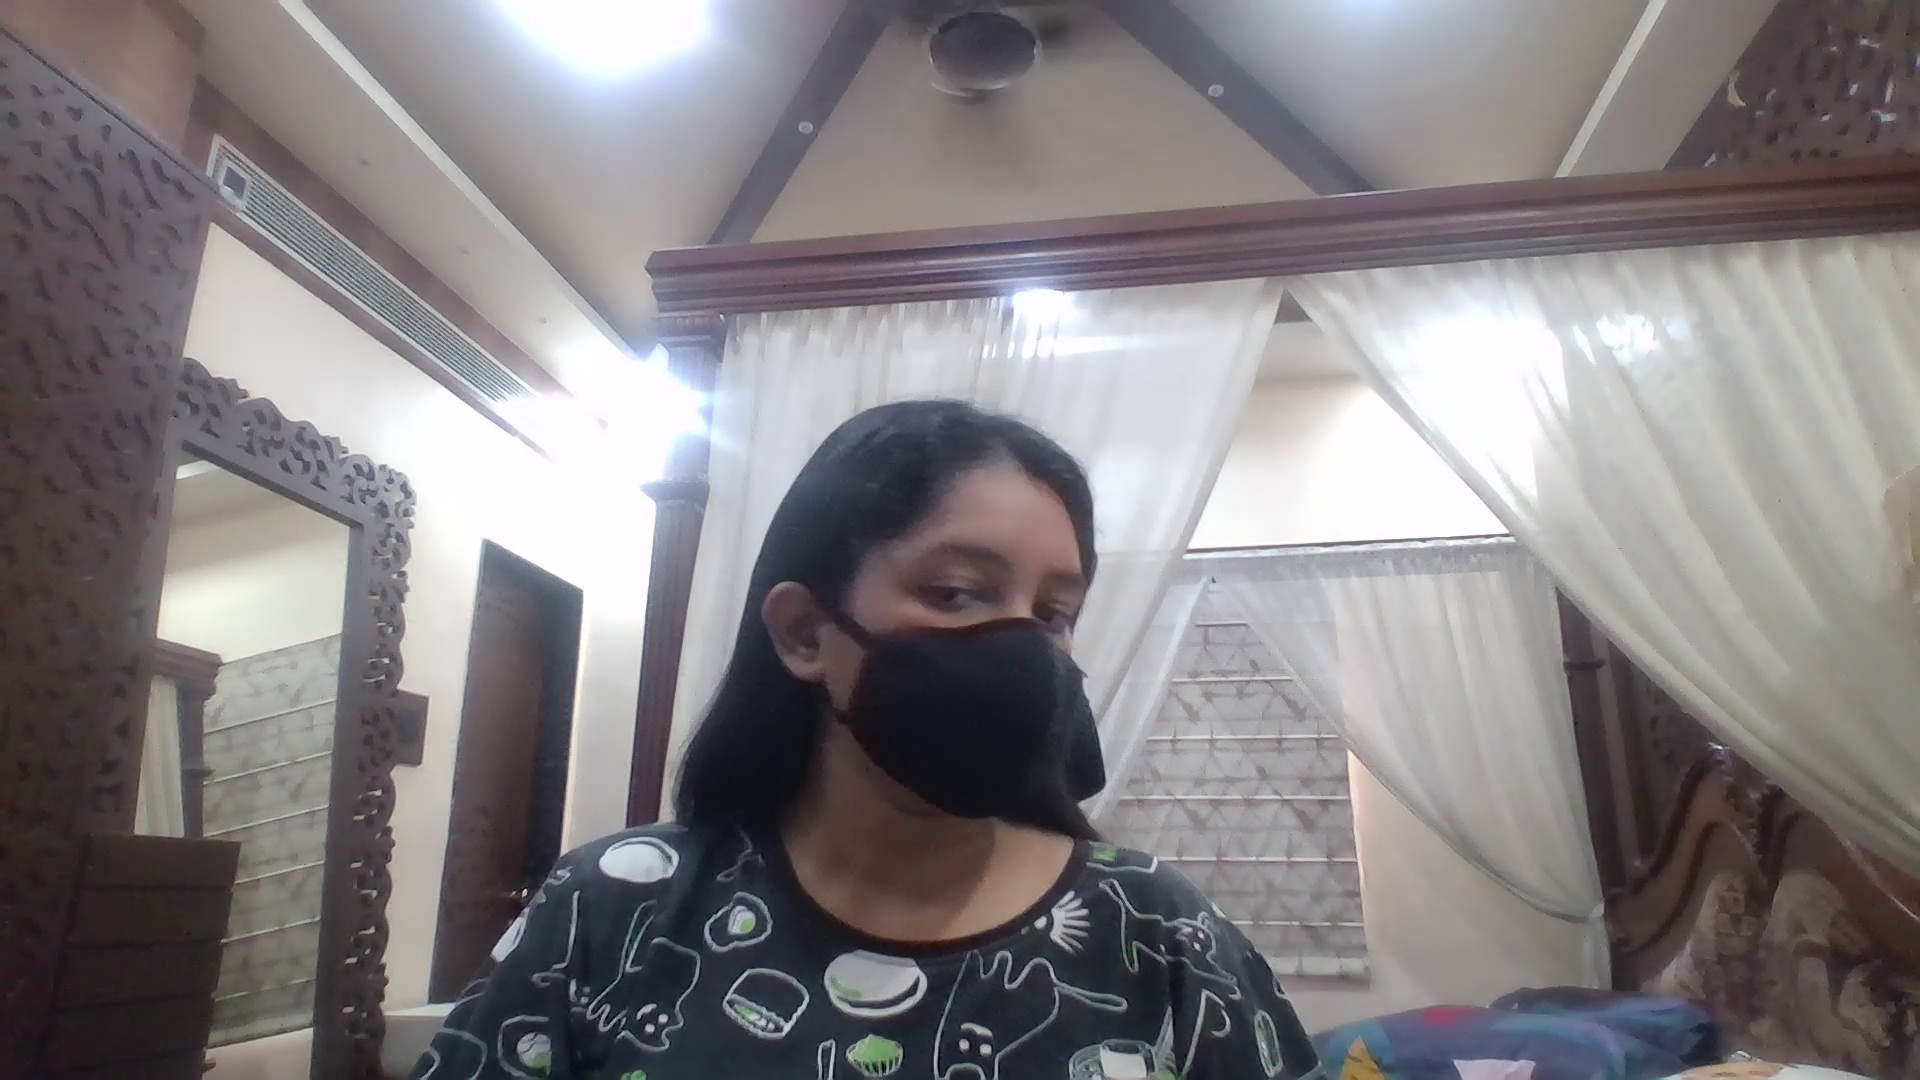Mask: (846, 620, 1090, 817)
